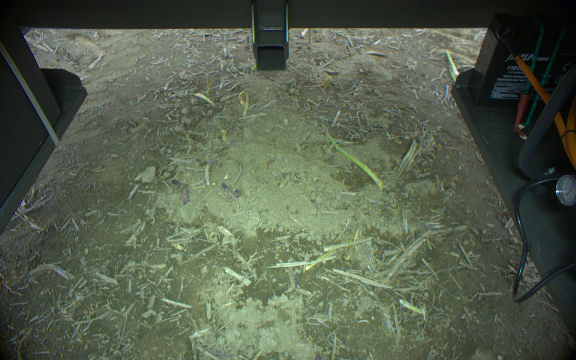aspa: (325, 131, 383, 191), (191, 90, 218, 110), (181, 119, 196, 154), (169, 180, 189, 205), (200, 156, 212, 187)
